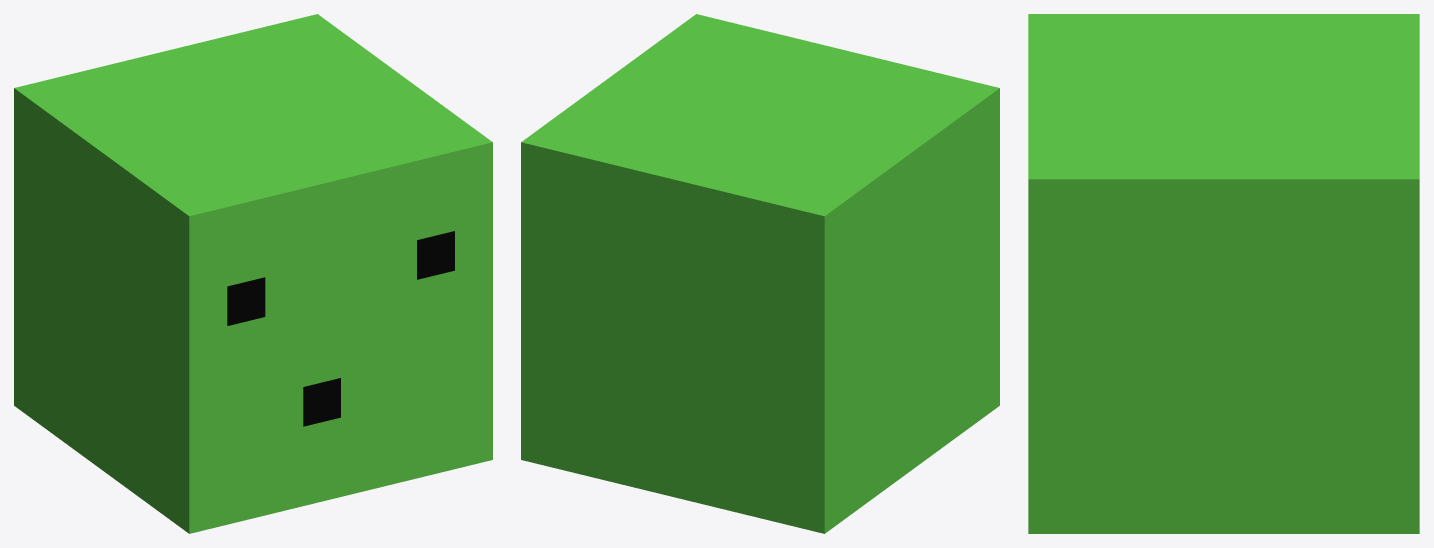
File: slime.dae
3 views of the same model, side by side, from view 1: azimuth 30°, elevation 25°; view 2: azimuth 150°, elevation 25°; view 3: azimuth 270°, elevation 25° (orthographic). The views are drawn at different scales.
Visible parts, largest first — view 1: slime; view 2: slime; view 3: slime.
Boxes of the visible parts, x1,y1,x2,y2 form: slime: (14,14,492,533); slime: (521,14,999,533); slime: (1028,14,1419,533).
Size of the model in its own units: 2 by 2 by 2.
